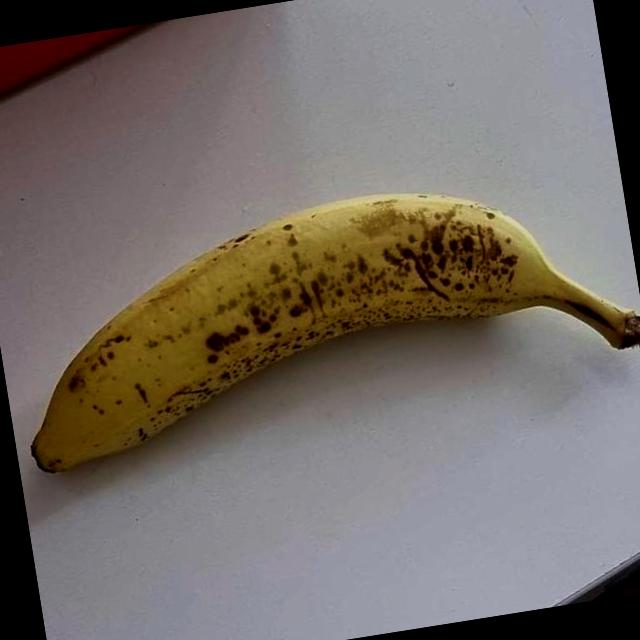Banana: (0, 137, 640, 505)
